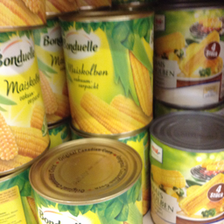corn: (57, 11, 152, 137), (28, 134, 142, 224), (150, 111, 223, 224), (152, 5, 220, 111)
